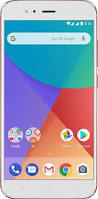mi: (1, 1, 98, 199)
